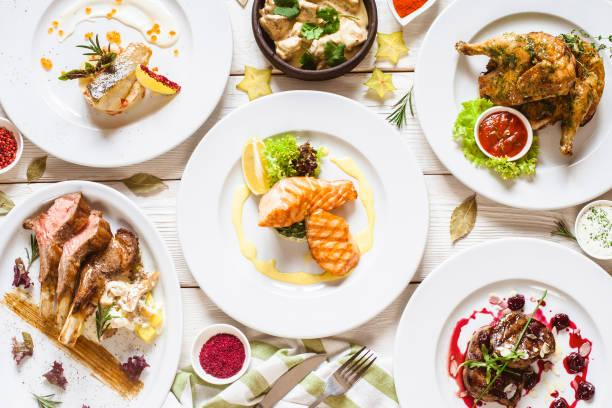Braised Crucian Carp: (184, 87, 434, 329), (2, 178, 190, 408), (415, 0, 609, 210), (0, 0, 238, 170), (390, 237, 610, 406), (251, 0, 376, 79)
